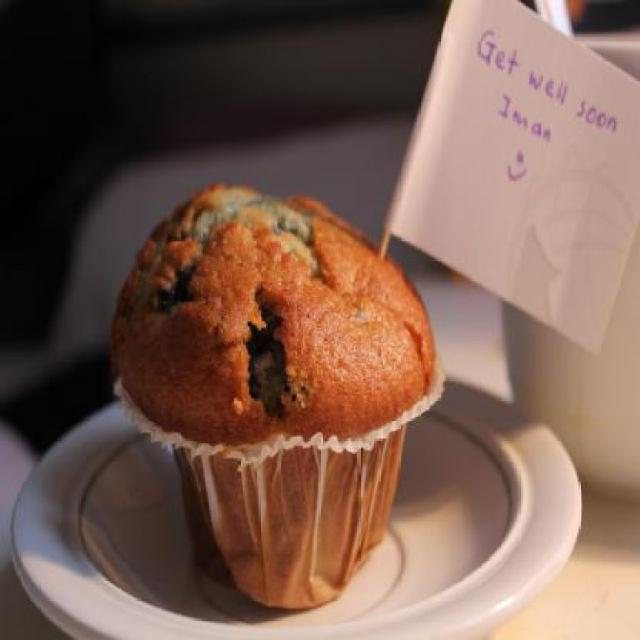Muffin: (107, 182, 447, 612)
